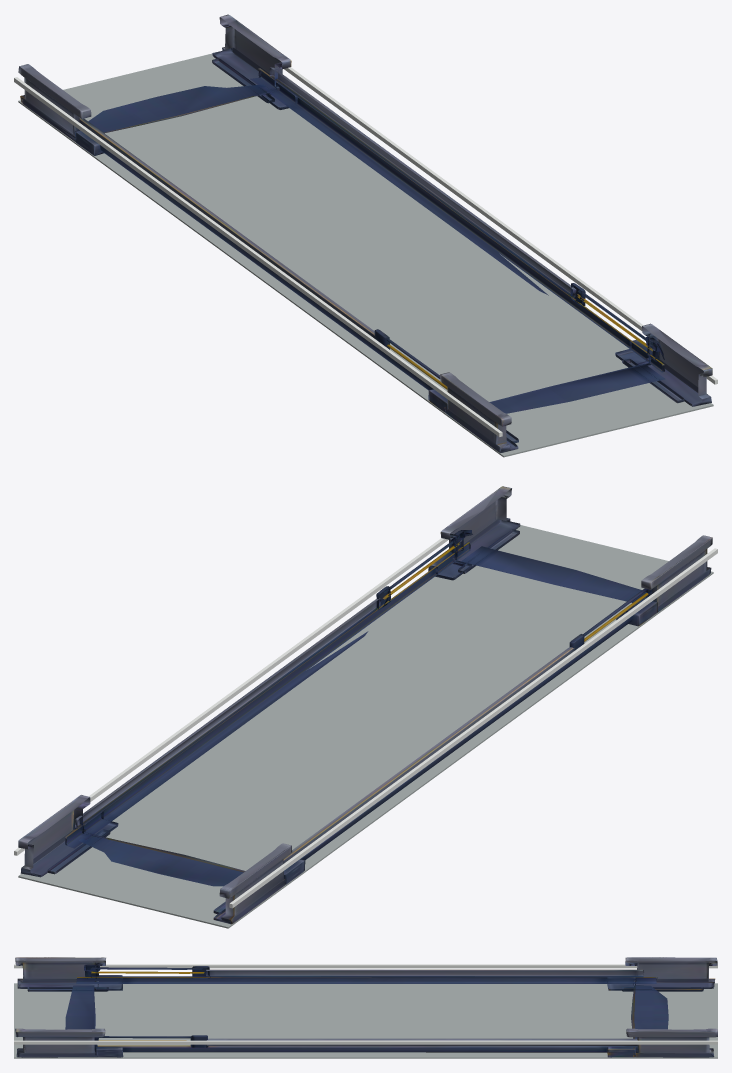
File: bridge.glb
3 renders of one model, top to bottom at view 1: azimuth 30°, elevation 25°; view 2: azimuth 150°, elevation 25°; view 3: azimuth 270°, elevation 25°, orthographic. The views are drawn at different scales.
Visible parts, largest first — view 1: level bridge deck, meshy-bridge, bridge safety rail, bridge safety rail.001; view 2: level bridge deck, meshy-bridge, bridge safety rail, bridge safety rail.001; view 3: level bridge deck, meshy-bridge, bridge safety rail.001, bridge safety rail.
Part boxes in pixels (x1,y1,x2,y2): level bridge deck: [18, 53, 713, 457]; meshy-bridge: [18, 14, 712, 453]; bridge safety rail: [14, 77, 502, 436]; bridge safety rail.001: [284, 67, 717, 384]; level bridge deck: [18, 525, 713, 928]; meshy-bridge: [18, 486, 712, 924]; bridge safety rail: [229, 548, 717, 908]; bridge safety rail.001: [14, 538, 448, 855]; level bridge deck: [14, 983, 717, 1058]; meshy-bridge: [15, 957, 717, 1057]; bridge safety rail.001: [14, 1040, 717, 1044]; bridge safety rail: [14, 964, 717, 968].
Bounding box in the file's own units: 8.32 × 1.35 × 32.
Materials: 3 (1 with a texture image).
